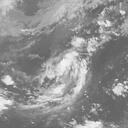cyclone: (37, 49, 89, 105)
